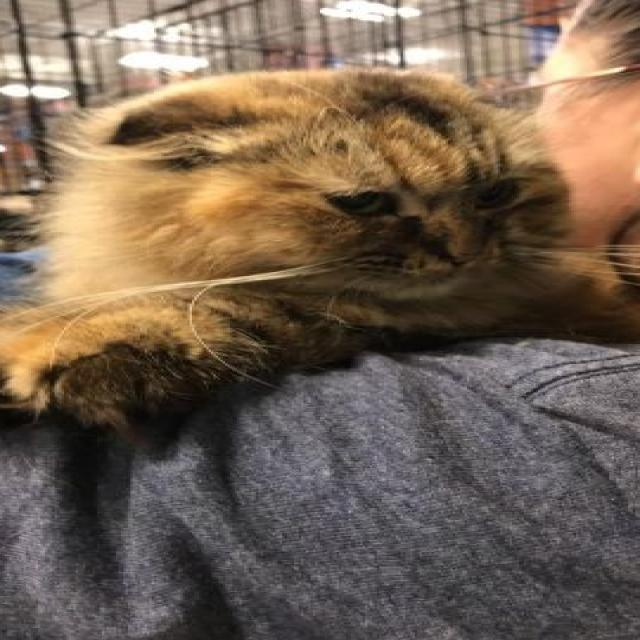Scottish Fold: (0, 60, 581, 431)
